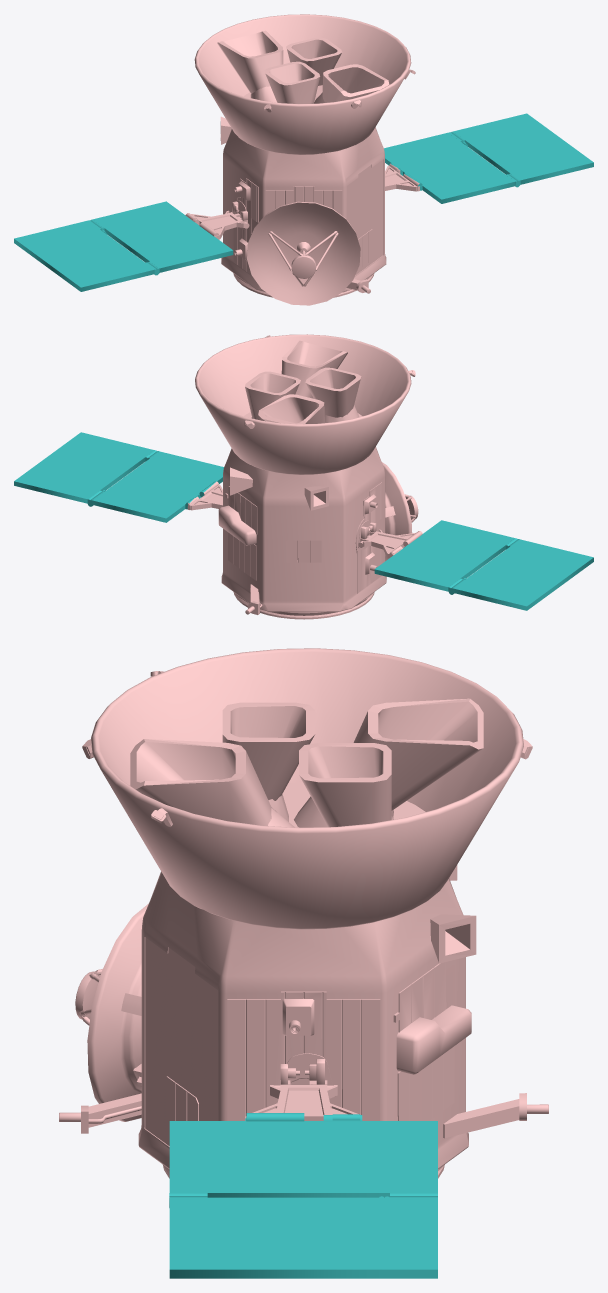
The model's file is tess.obj.
3 renders of one model, top to bottom at view 1: azimuth 30°, elevation 25°; view 2: azimuth 150°, elevation 25°; view 3: azimuth 270°, elevation 25°, orthographic. The views are drawn at different scales.
Visible parts, largest first — view 1: BUS_Cylinder; view 2: BUS_Cylinder; view 3: BUS_Cylinder.
Part boxes in pixels (bbox=[...]): BUS_Cylinder: bbox=[14, 14, 593, 305]; BUS_Cylinder: bbox=[14, 334, 593, 619]; BUS_Cylinder: bbox=[59, 648, 548, 1278].
Bounding box in the file's own units: 7.39 × 3.1 × 3.06.
